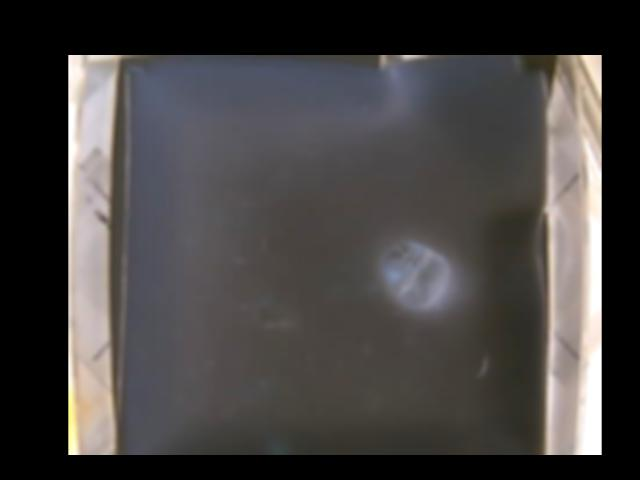Pebble: (381, 240, 450, 306)
